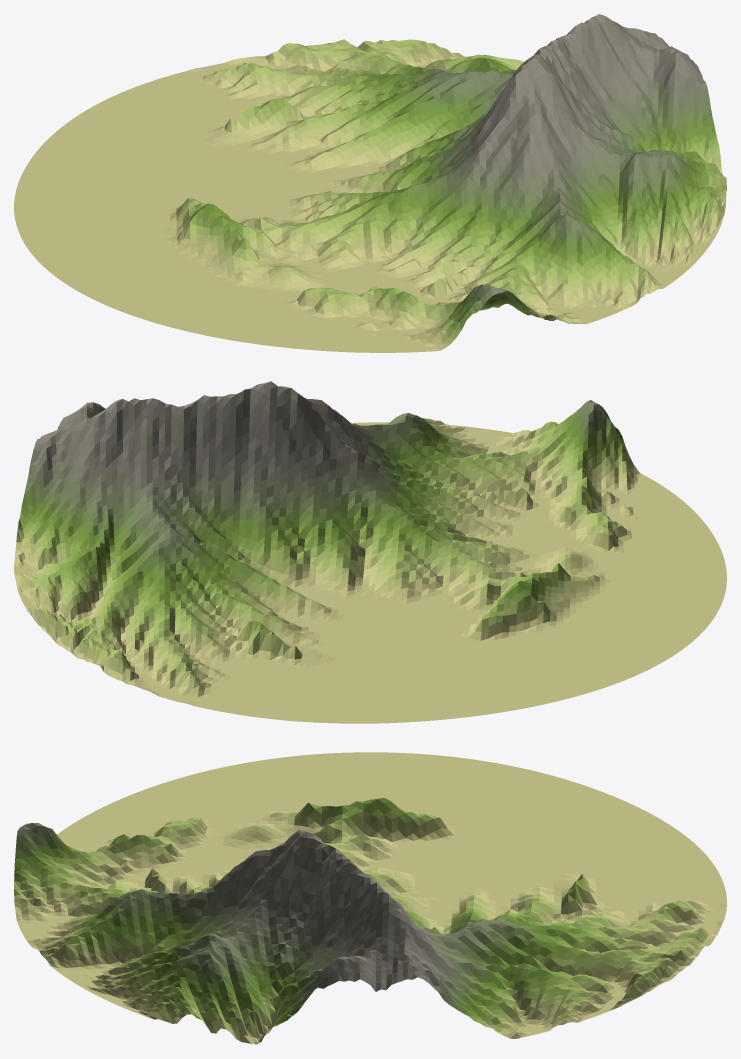
File: Terrain.fbx
3 views of the same model, one above another, from view 1: azimuth 30°, elevation 25°; view 2: azimuth 150°, elevation 25°; view 3: azimuth 270°, elevation 25° (orthographic).
Visible parts, largest first — view 1: Terrain; view 2: Terrain; view 3: Terrain.
Part boxes in pixels (<box>): Terrain: <box>14,14,726,352</box>; Terrain: <box>14,381,726,723</box>; Terrain: <box>14,752,726,1044</box>.
Bounding box in the file's own units: 144 × 29.97 × 144.
